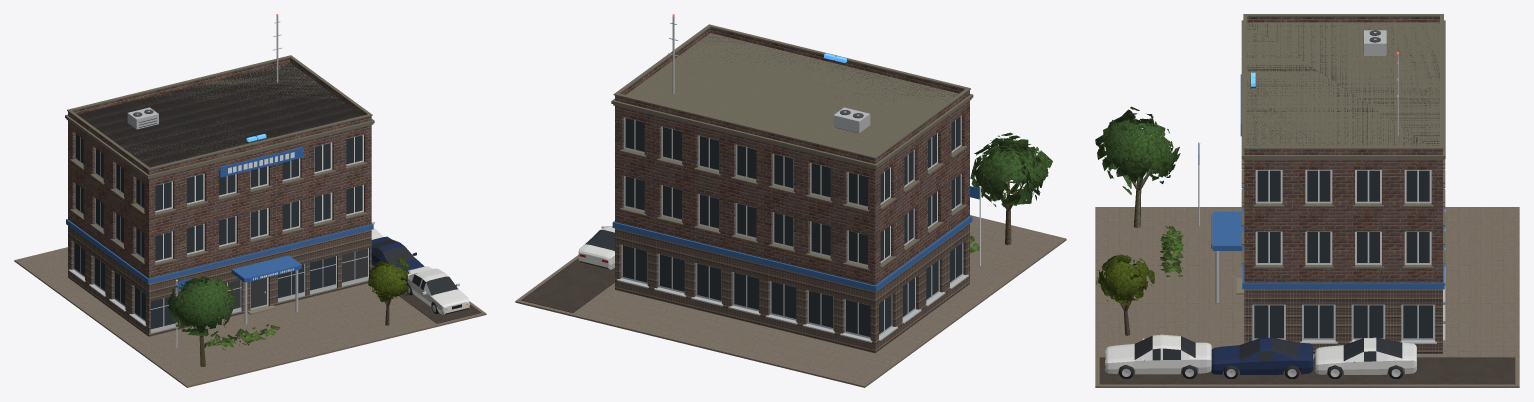
The model's file is police_station.glb.
3 renders of one model, left to right at view 1: azimuth 30°, elevation 25°; view 2: azimuth 150°, elevation 25°; view 3: azimuth 270°, elevation 25°, orthographic. The views are drawn at different scales.
Visible parts, largest first — view 1: police_station_body, police_station_foliage; view 2: police_station_body, police_station_foliage; view 3: police_station_body, police_station_foliage.
Boxes of the visible parts, x1=… form: police_station_body: x1=14, y1=14, x2=486, y2=387; police_station_foliage: x1=167, y1=257, x2=412, y2=350; police_station_body: x1=515, y1=14, x2=1066, y2=387; police_station_foliage: x1=970, y1=132, x2=1052, y2=252; police_station_body: x1=1095, y1=14, x2=1519, y2=387; police_station_foliage: x1=1095, y1=106, x2=1184, y2=305.
Bounding box in the file's own units: 0.94 × 0.694 × 0.94.
30 materials, 14 textured.
